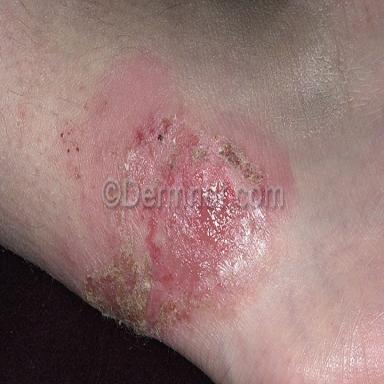Impetigo: (82, 209, 270, 339), (123, 111, 271, 184)
